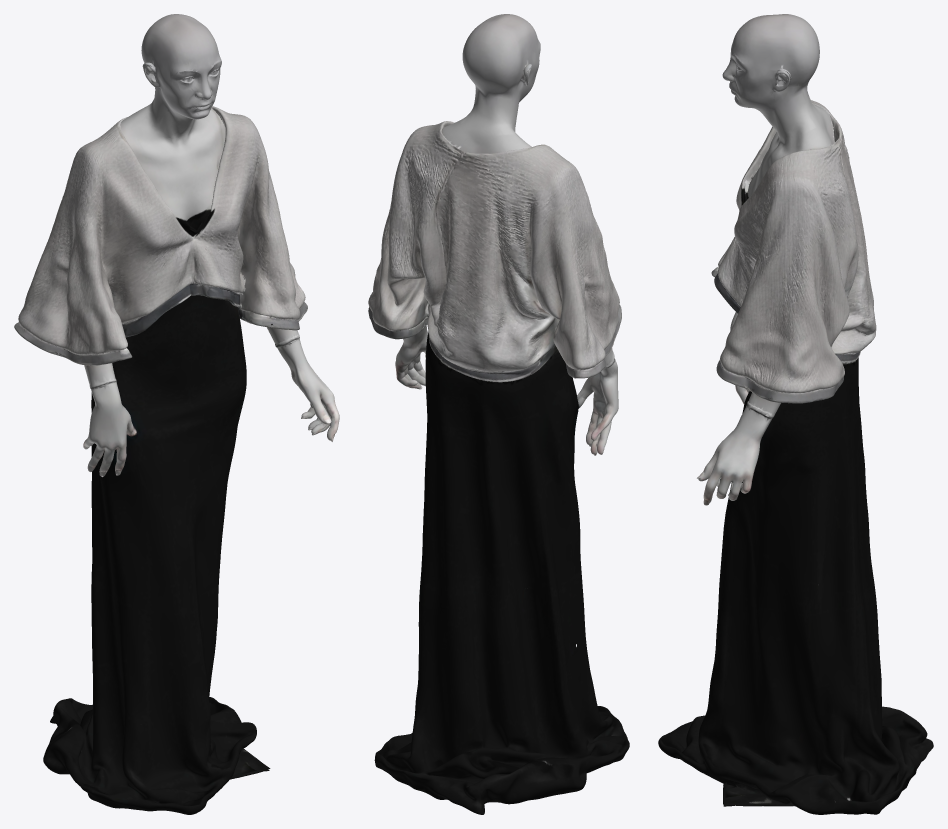
3 renders of one model, left to right at view 1: azimuth 30°, elevation 25°; view 2: azimuth 150°, elevation 25°; view 3: azimuth 270°, elevation 25°, orthographic. The views are drawn at different scales.
Parts seen in each view (by area): view 1: tripo_node_73827adb-f766-4f89-b51e-d6514eaea084; view 2: tripo_node_73827adb-f766-4f89-b51e-d6514eaea084; view 3: tripo_node_73827adb-f766-4f89-b51e-d6514eaea084.
Part boxes in pixels (x1,y1,x2,y2): tripo_node_73827adb-f766-4f89-b51e-d6514eaea084: (14,14,339,814); tripo_node_73827adb-f766-4f89-b51e-d6514eaea084: (368,14,629,814); tripo_node_73827adb-f766-4f89-b51e-d6514eaea084: (658,14,933,814).
Size of the model in its own units: 0.3518 by 0.9815 by 0.3221.
Materials: 1 (1 with a texture image).
